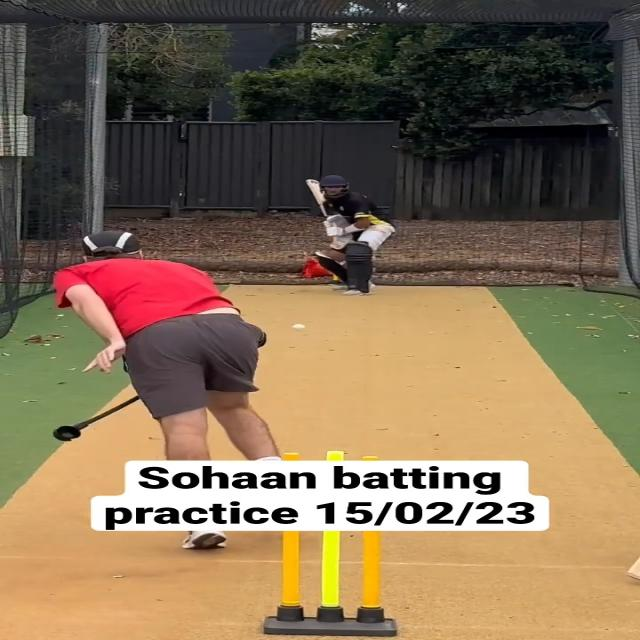ball: (290, 323, 306, 331)
stump: (265, 528, 398, 638)
